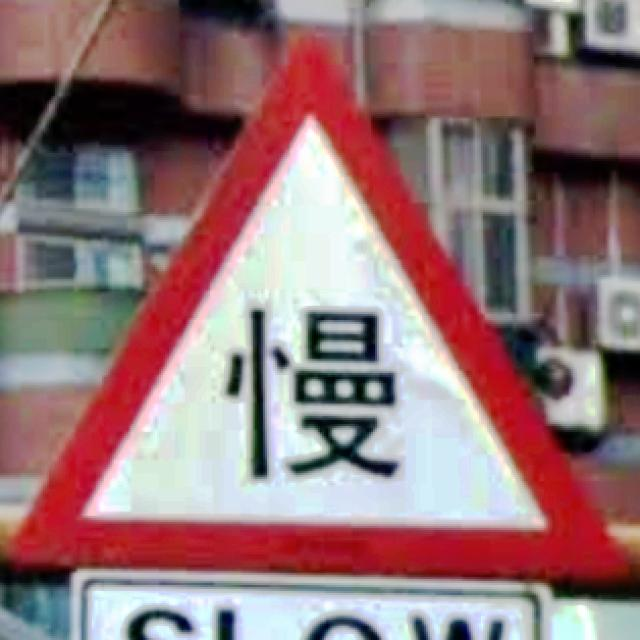slow: (10, 37, 630, 581)
